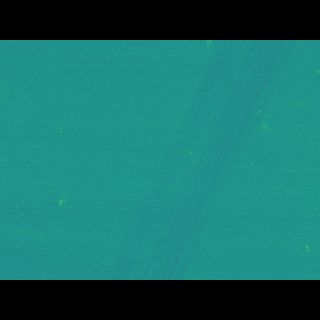Loch: (100, 71, 301, 250)
